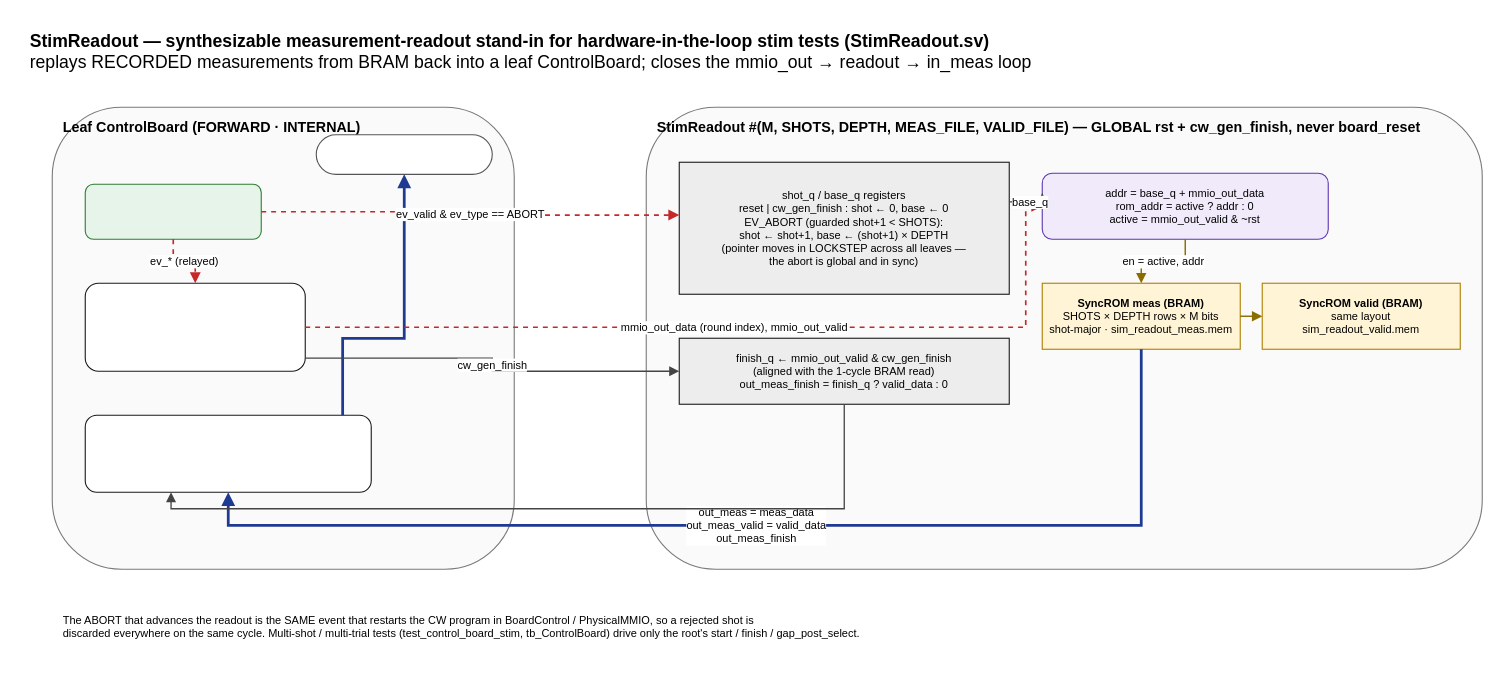
This 1502x675 diagram has some shape labels left out. The shapes that lost their labels are listed below. From the top down, each one's centre as x and y in pixels, then its label:
point 403,154: fwd_det / fwd_raw … → parent
point 172,211: BoardControl
point 194,326: PhysicalMMIO (P = 1) out_data = ROUND INDEX (sim CW type: entry = its index)
point 227,453: DetectorConstructBlock in_meas / in_valid / in_meas_finish
